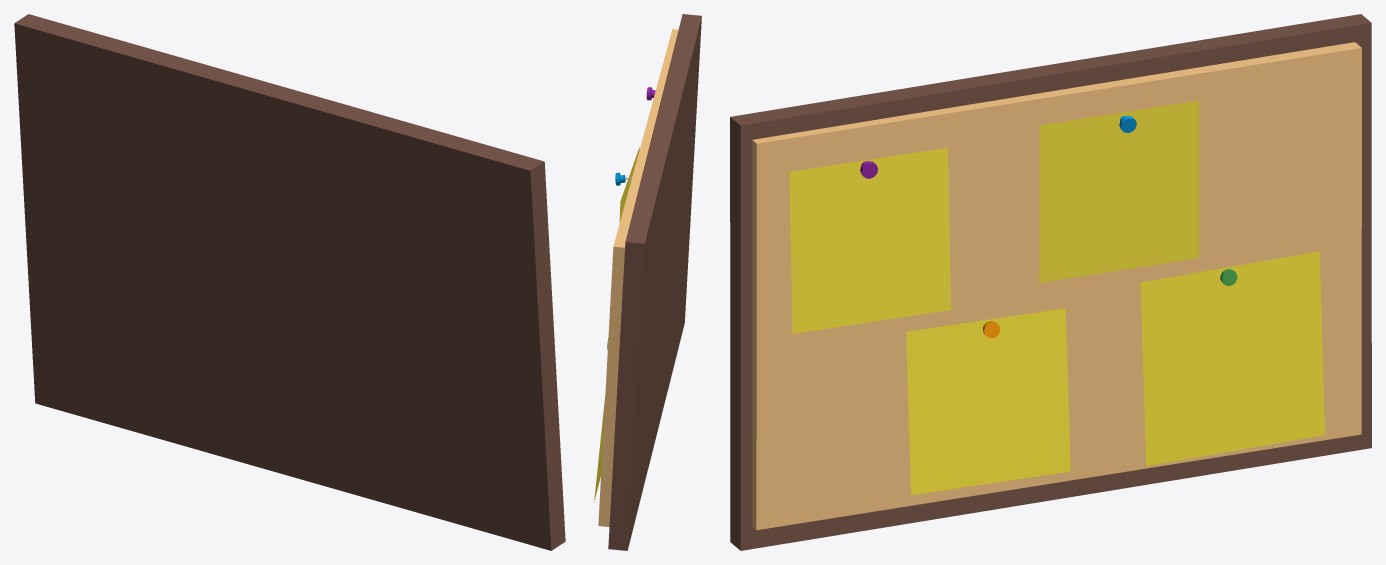
Rendered from Bulletin Board.obj.
The picture shows the model from 3 angles, left to right: view 1: azimuth 30°, elevation 25°; view 2: azimuth 150°, elevation 25°; view 3: azimuth 270°, elevation 25°; orthographic projection. The views are drawn at different scales.
Visible parts, largest first — view 1: group768234359; view 2: group768234359, group713488740, group509771272; view 3: group768234359, group713488740, group1456619032, group1329270124, group509771272.
Boxes of the visible parts, bbox=[...] form: group768234359: bbox=[14, 14, 565, 550]; group768234359: bbox=[598, 14, 701, 550]; group713488740: bbox=[594, 396, 605, 502]; group509771272: bbox=[619, 147, 639, 222]; group768234359: bbox=[730, 14, 1371, 550]; group713488740: bbox=[1140, 251, 1324, 465]; group1456619032: bbox=[906, 308, 1070, 494]; group1329270124: bbox=[789, 147, 951, 333]; group509771272: bbox=[1039, 100, 1198, 282].
Bounding box in the file's own units: 1.15 × 1.66 × 2.24.
